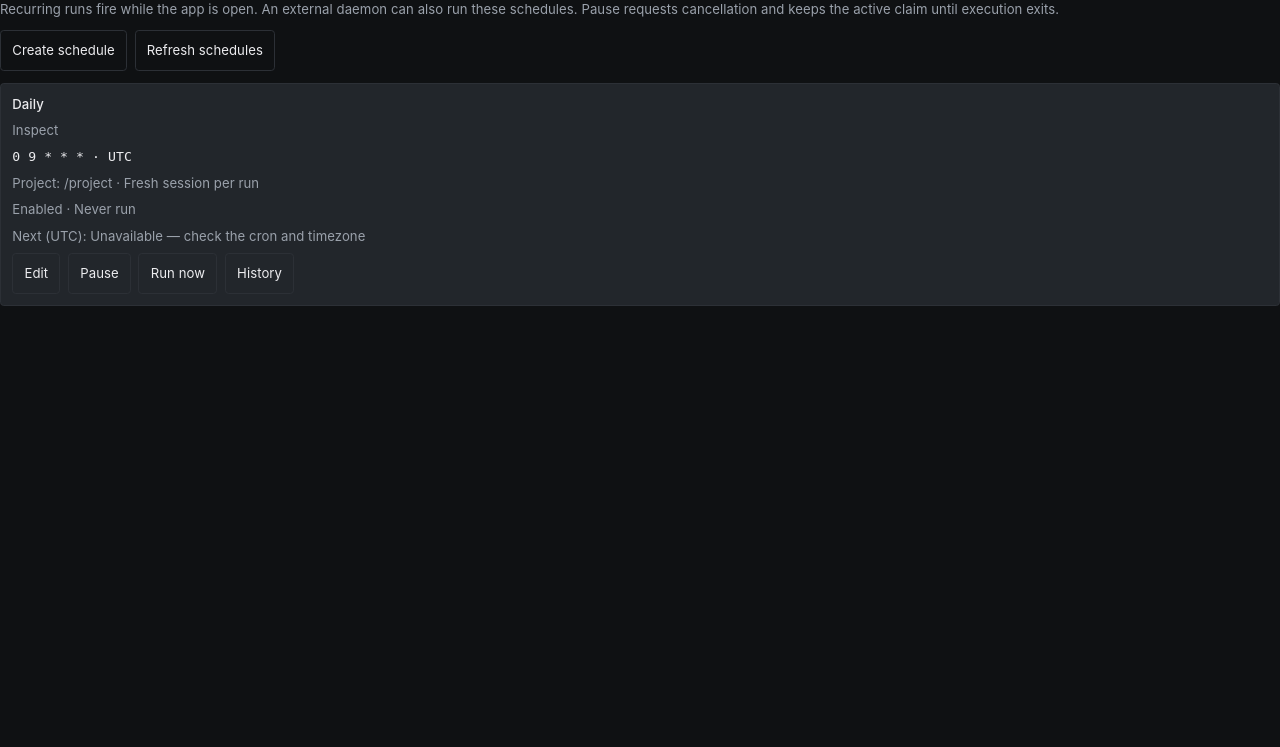
Test: SchedulesPane workflow › creates an explicitly scoped schedule and blocks duplicate submits
Click the button "Create schedule". click: (64, 51)
box: x1=0 y1=30 x2=127 y2=71
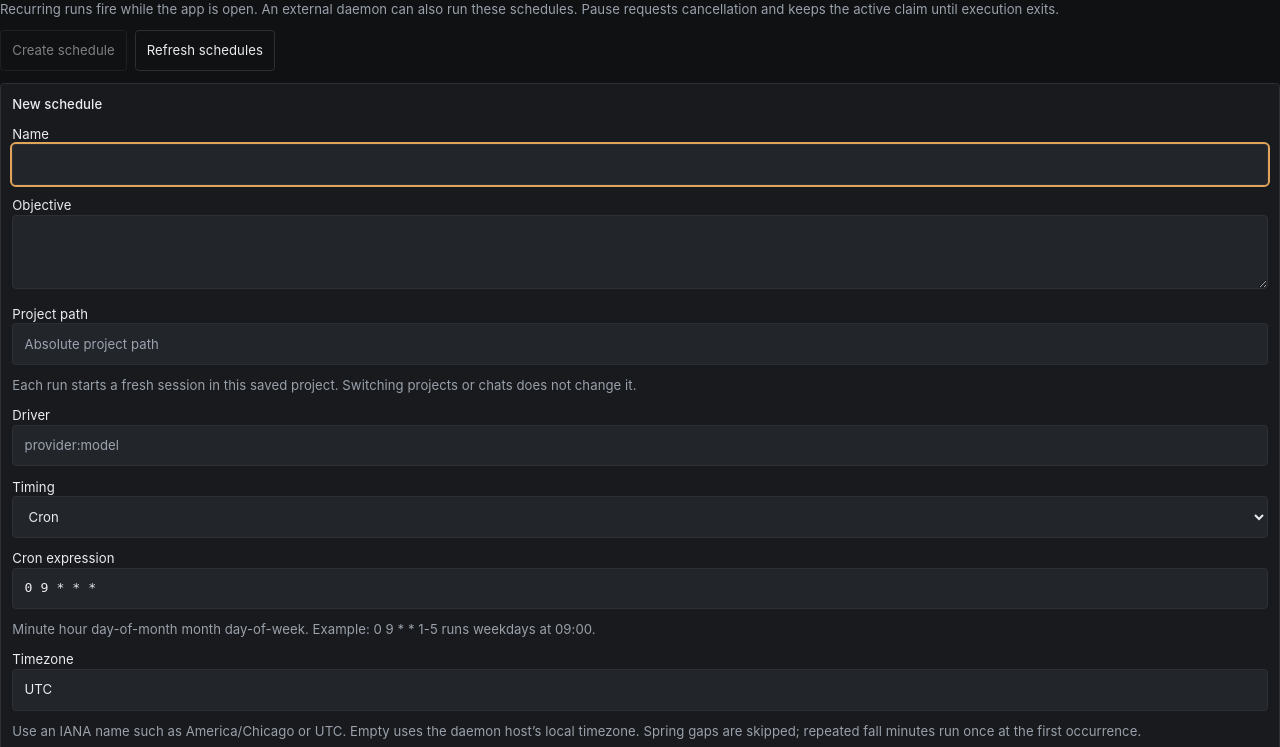
Type "New" into the field labelled "Name". click: (640, 164)
box: x1=12 y1=144 x2=1268 y2=185
Type "Check" into the text box labelled "Objective". click: (640, 252)
box: x1=12 y1=215 x2=1268 y2=289
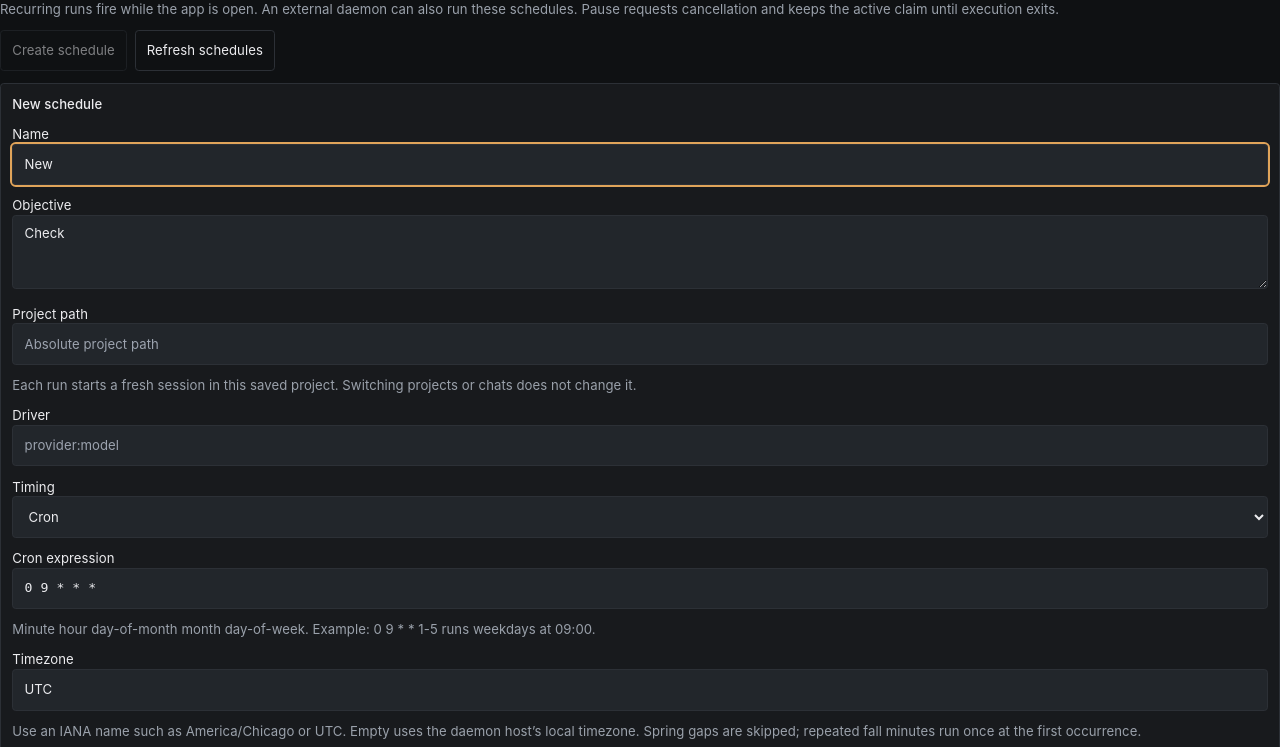
Type "/explicit" into the field labelled "Project path". click: (640, 344)
box: x1=12 y1=323 x2=1268 y2=365
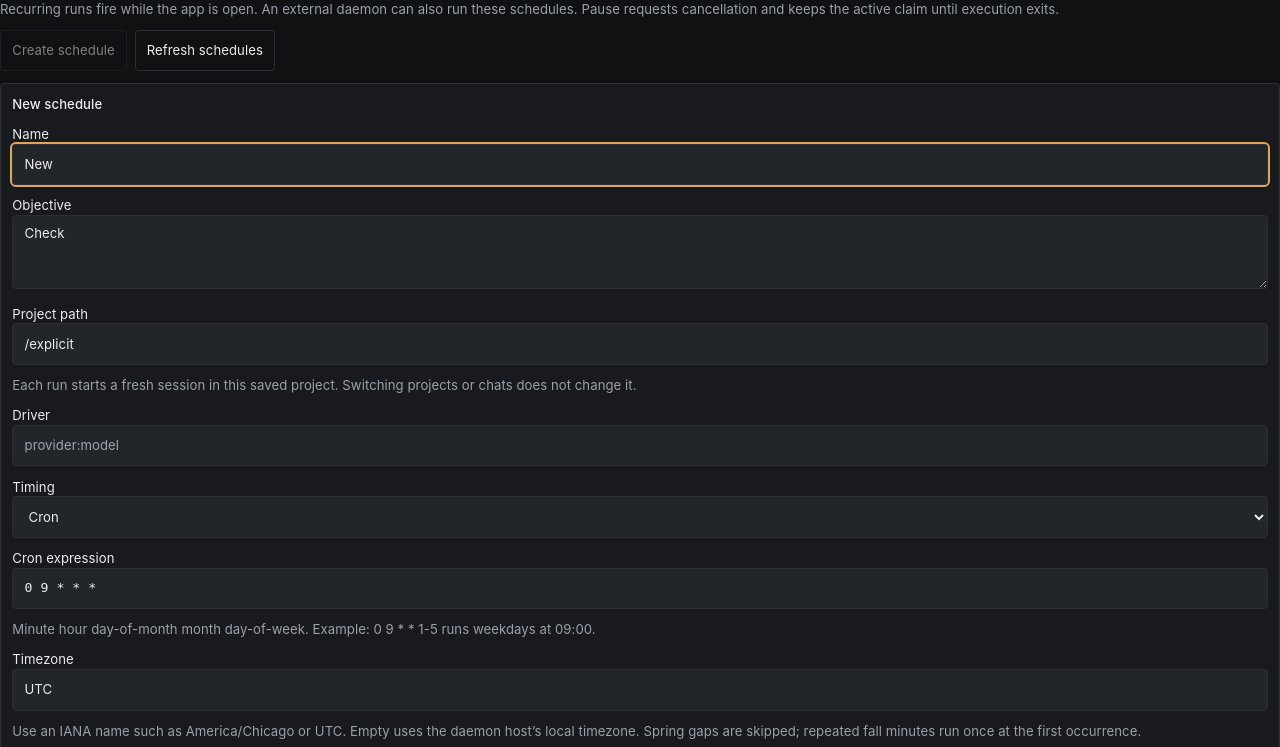
Type "openai/gpt-5-nano" into the field labelled "Driver". click: (640, 446)
box: x1=12 y1=425 x2=1268 y2=466
(page scrolled)
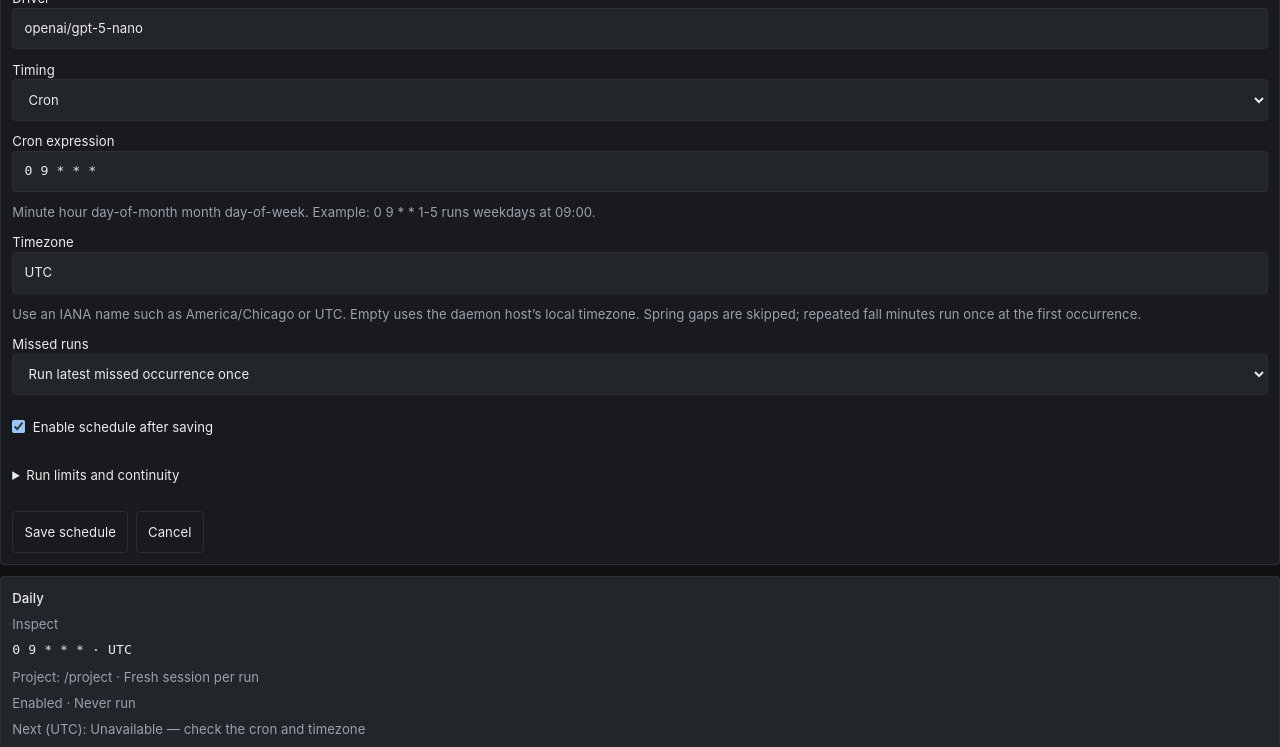
Click the button "Save schedule". click: (70, 532)
box: x1=12 y1=512 x2=128 y2=553
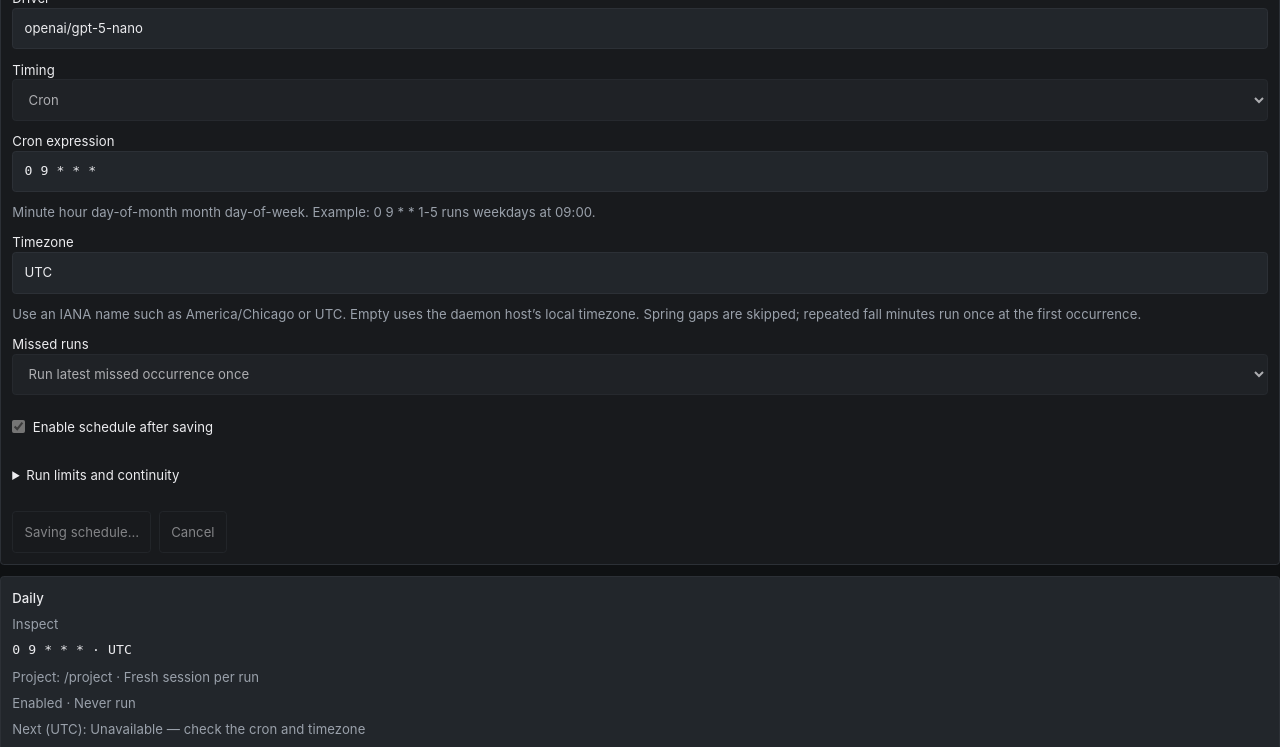
Click the button "Saving schedule…". click: (82, 532)
box: x1=12 y1=512 x2=151 y2=553
(page scrolled)
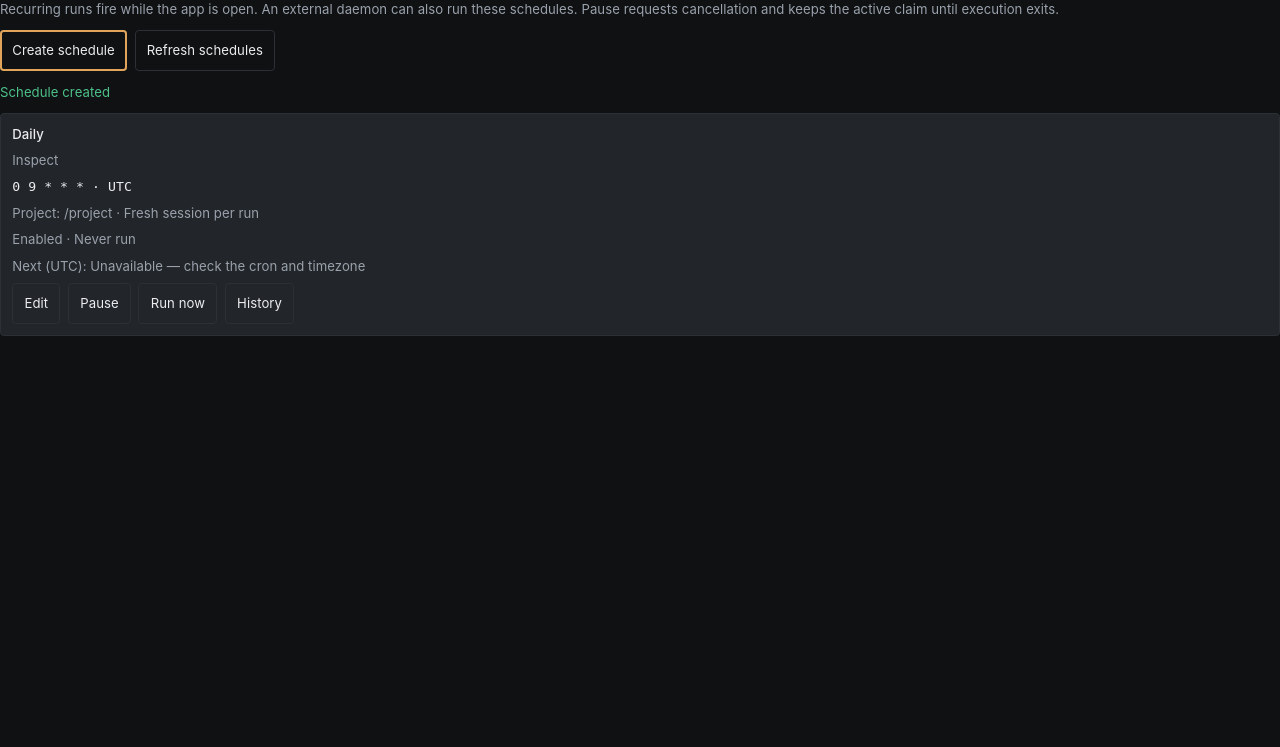
Now the text "Schedule created" is shown, box x1=0 y1=84 x2=110 y2=100
